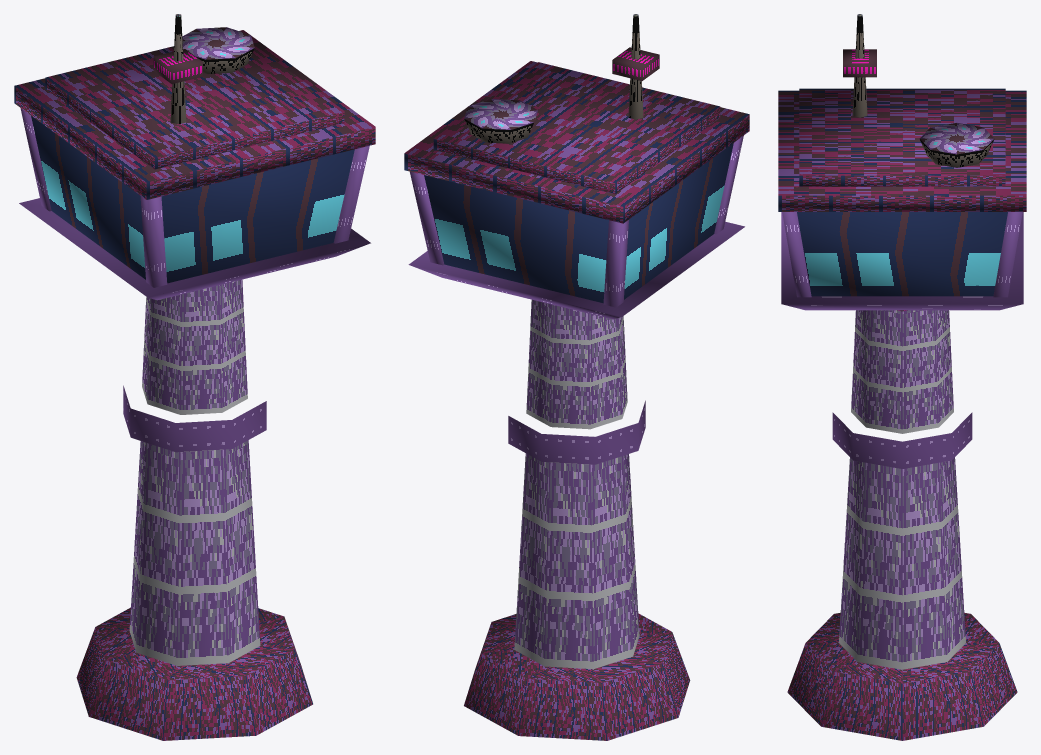
File: control_tower.glb
3 views of the same model, side by side, from view 1: azimuth 30°, elevation 25°; view 2: azimuth 150°, elevation 25°; view 3: azimuth 270°, elevation 25° (orthographic). The views are drawn at different scales.
Parts seen in each view (by area): view 1: Model; view 2: Model; view 3: Model.
Boxes of the visible parts, x1=… form: Model: x1=14, y1=14, x2=375, y2=740; Model: x1=404, y1=14, x2=749, y2=740; Model: x1=778, y1=14, x2=1026, y2=740.
Bounding box in the file's own units: 18.04 × 52.8 × 18.04.
1 material, 1 textured.
